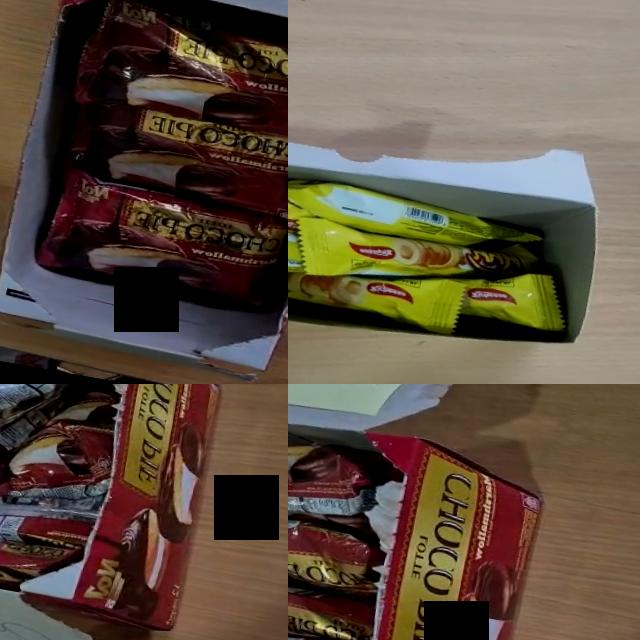Ahh: (288, 203, 548, 314), (288, 169, 546, 262), (288, 248, 467, 336), (440, 257, 574, 335), (288, 172, 321, 244), (288, 214, 314, 292)
Chocopie: (30, 163, 288, 314), (69, 0, 288, 149), (58, 91, 288, 229), (0, 384, 124, 520), (288, 421, 406, 529), (288, 500, 387, 597), (0, 515, 83, 600), (0, 486, 98, 557), (288, 567, 379, 640), (0, 384, 81, 465)
